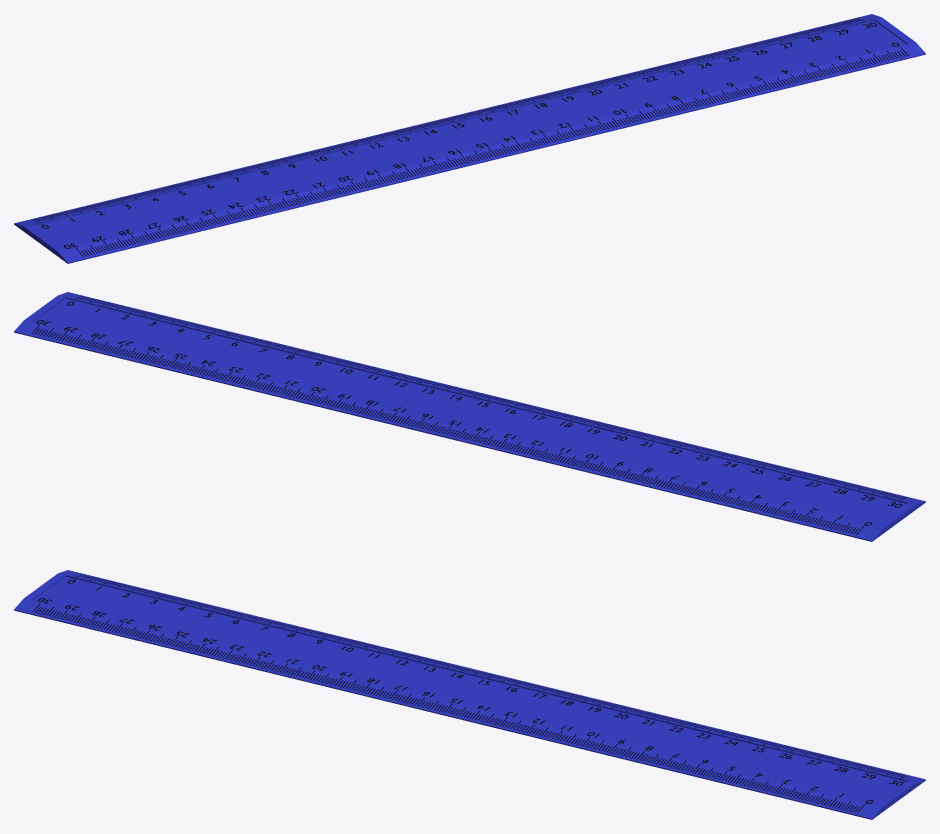
The model's file is ruler.obj.
3 views of the same model, one above another, from view 1: azimuth 30°, elevation 25°; view 2: azimuth 150°, elevation 25°; view 3: azimuth 330°, elevation 25° (orthographic).
Visible parts, largest first — view 1: Cube, Plane.320_Plane.321, Plane.000_Plane.323; view 2: Cube, Plane.000_Plane.323, Plane.320_Plane.321; view 3: Cube, Plane.320_Plane.321, Plane.000_Plane.323.
Boxes of the visible parts, bbox=[...] form: Cube: bbox=[14, 14, 925, 263]; Plane.320_Plane.321: bbox=[76, 47, 908, 256]; Plane.000_Plane.323: bbox=[33, 18, 864, 222]; Cube: bbox=[14, 292, 925, 541]; Plane.000_Plane.323: bbox=[32, 324, 864, 534]; Plane.320_Plane.321: bbox=[75, 296, 906, 500]; Cube: bbox=[14, 570, 925, 819]; Plane.320_Plane.321: bbox=[32, 603, 864, 813]; Plane.000_Plane.323: bbox=[76, 574, 907, 778].
Bounding box in the file's own units: 31.23 × 0.1747 × 3.4.
